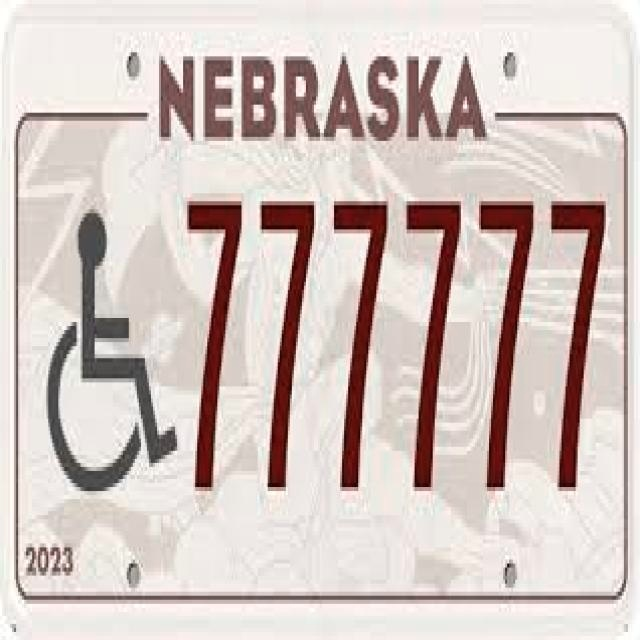ISA: (46, 210, 178, 498)
